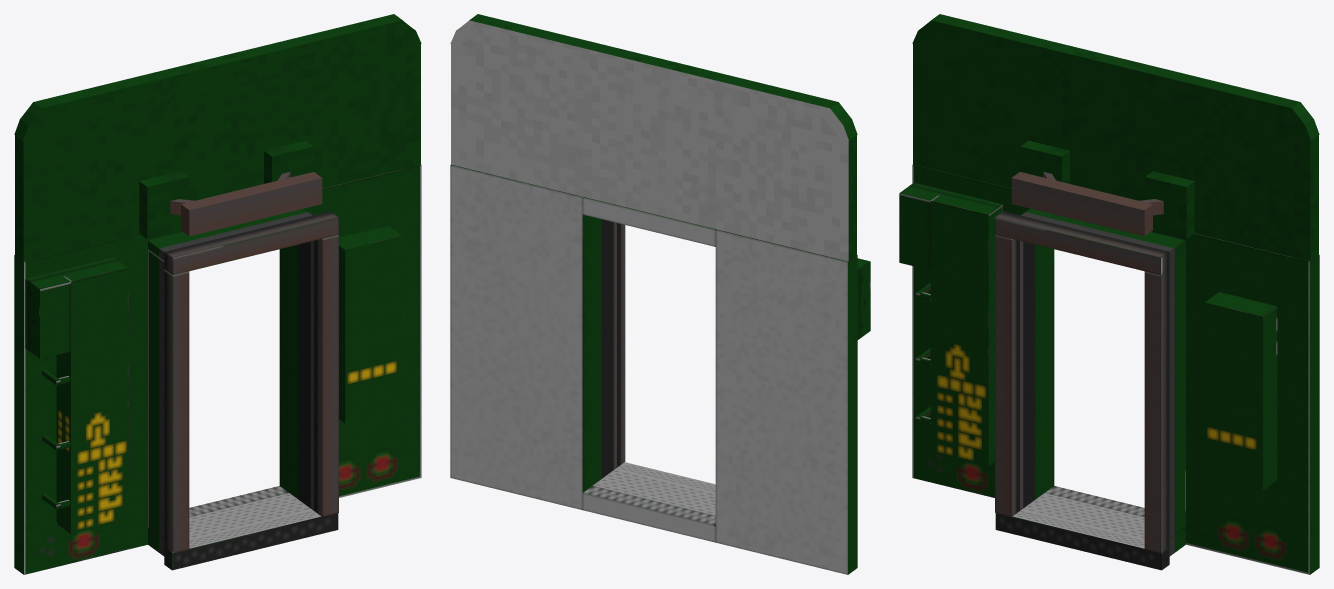
Rendered from end_face_original_25b_2.obj.
3 renders of one model, left to right at view 1: azimuth 30°, elevation 25°; view 2: azimuth 150°, elevation 25°; view 3: azimuth 330°, elevation 25°, orthographic.
Parts seen in each view (by area): view 1: cube; view 2: cube; view 3: cube.
Boxes of the visible parts, x1=… form: cube: x1=14, y1=14, x2=421, y2=574; cube: x1=450, y1=14, x2=870, y2=574; cube: x1=899, y1=14, x2=1319, y2=574.
Bounding box in the file's own units: 3 × 3.32 × 0.5562.
